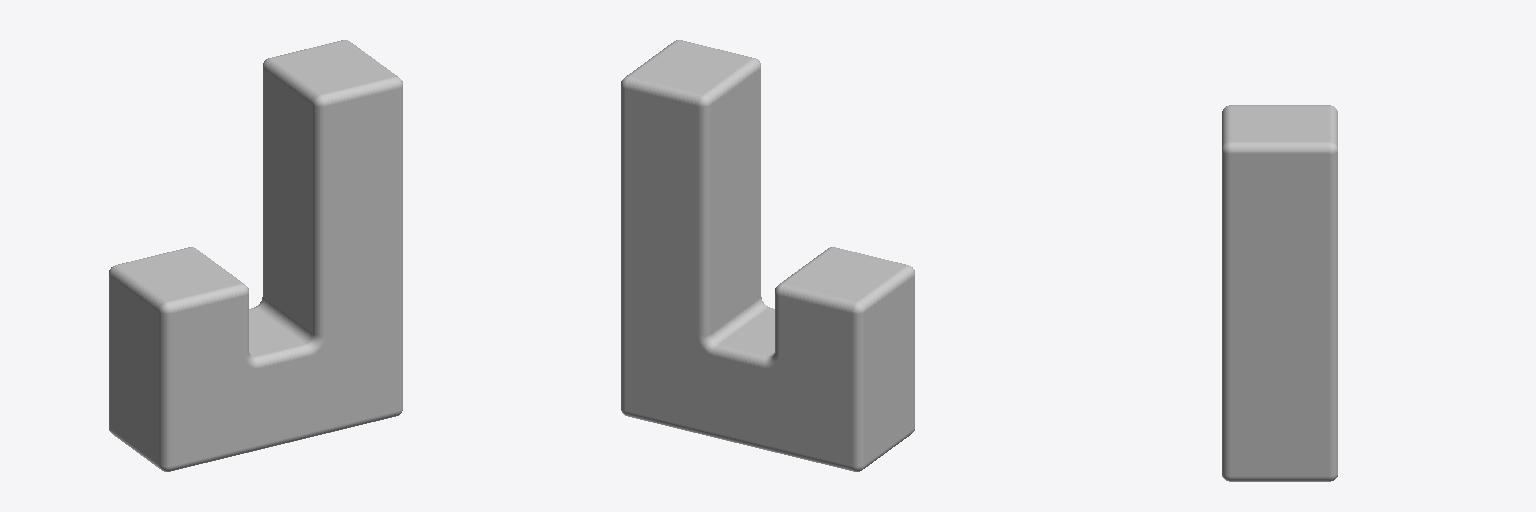
The model's file is J_Block_convex.obj.
The picture shows the model from 3 angles: view 1: azimuth 30°, elevation 25°; view 2: azimuth 150°, elevation 25°; view 3: azimuth 270°, elevation 25°; orthographic projection.
Bounding box in the file's own units: 38.1 × 50.8 × 15.88.